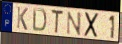1: (108, 15, 116, 40)
D: (32, 7, 48, 33)
K: (16, 6, 29, 31)
N: (66, 10, 83, 37)
T: (50, 9, 64, 36)
X: (83, 12, 100, 39)
